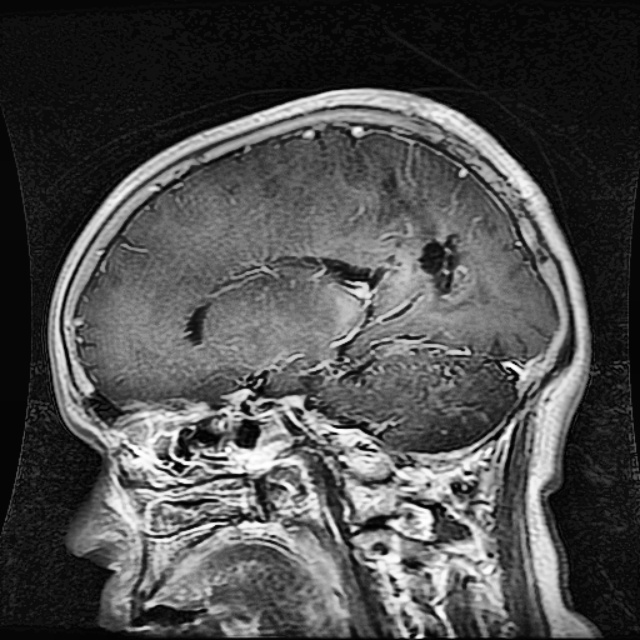Meningioma: (414, 230, 472, 305)
